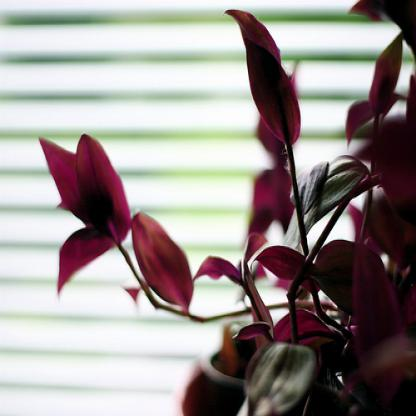pottedplant: (39, 0, 415, 415)
